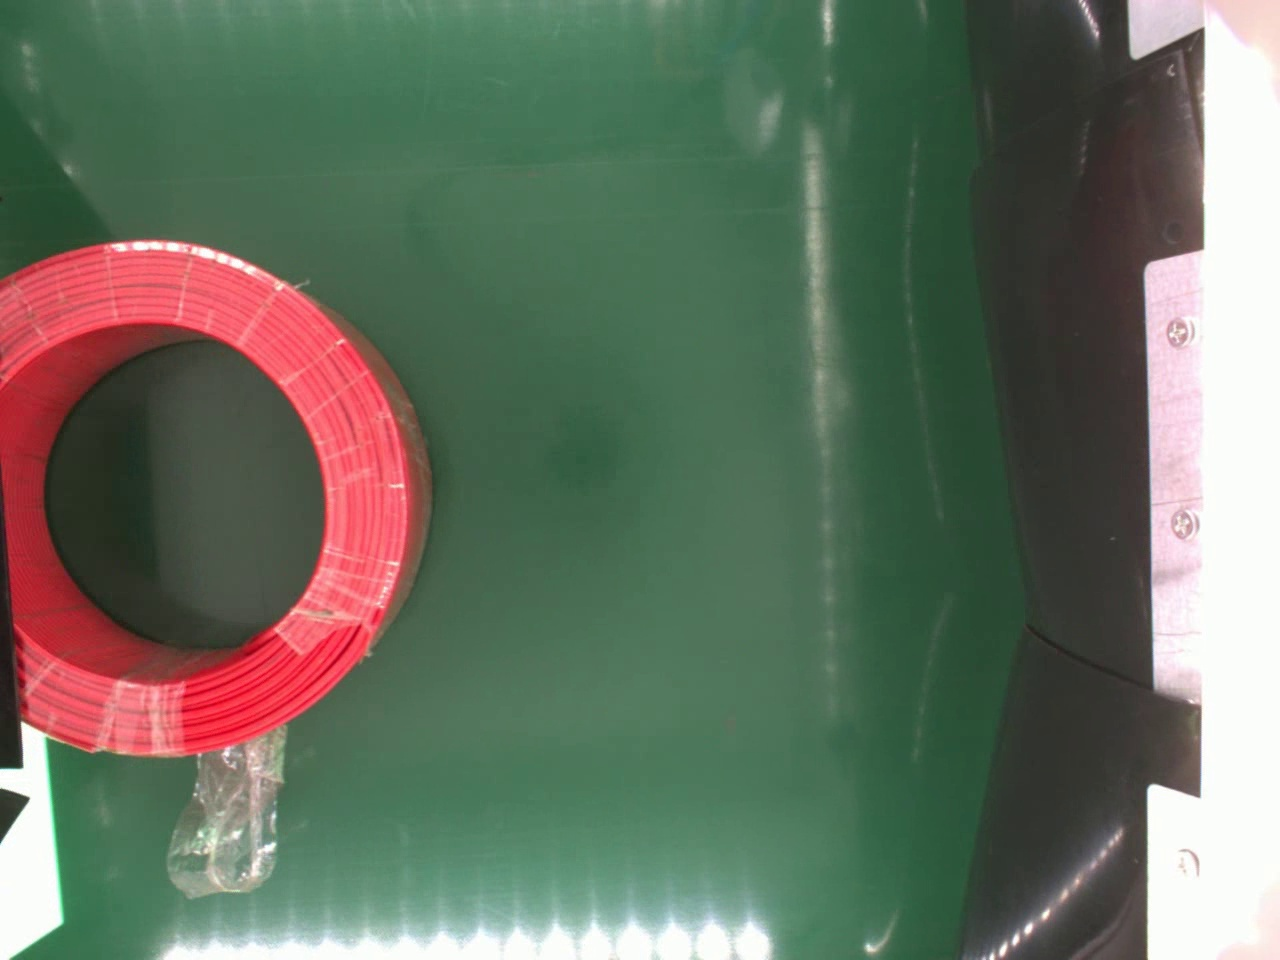red: (0, 237, 439, 755)
